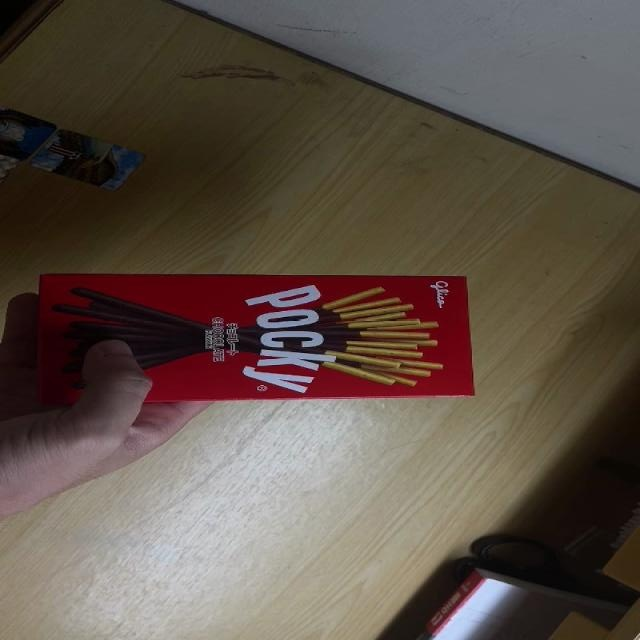Pocky: (36, 271, 475, 404)
